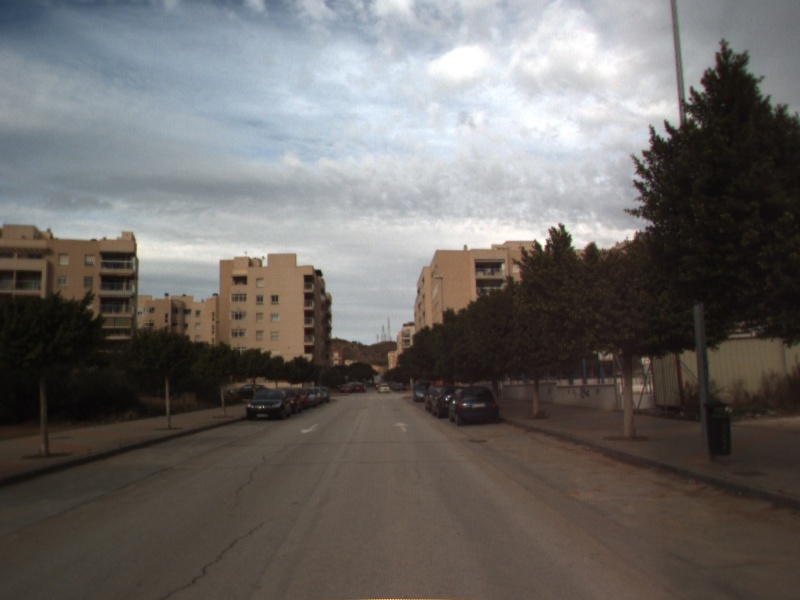STRAIGHT: (391, 420, 414, 434)
